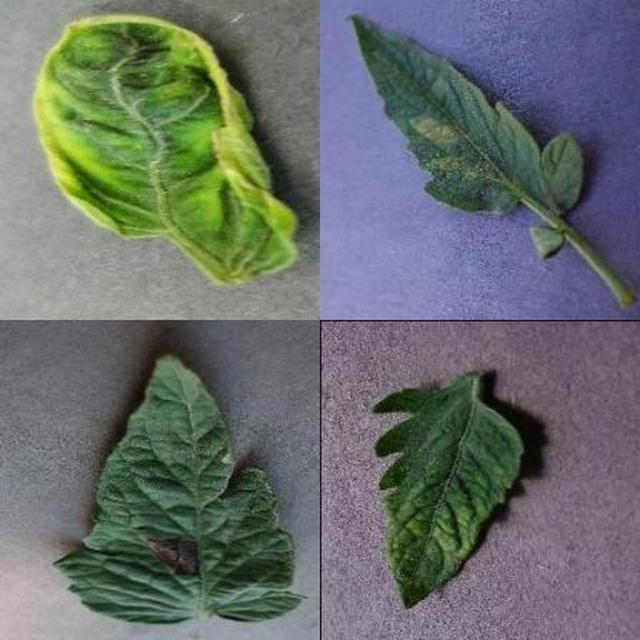Yellow Leaf Curl Virus: (224, 164, 640, 640)
